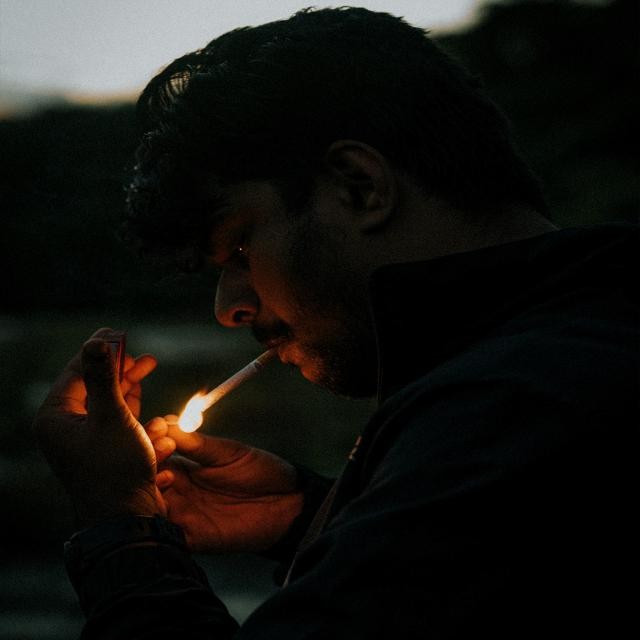fire: (178, 386, 208, 433)
